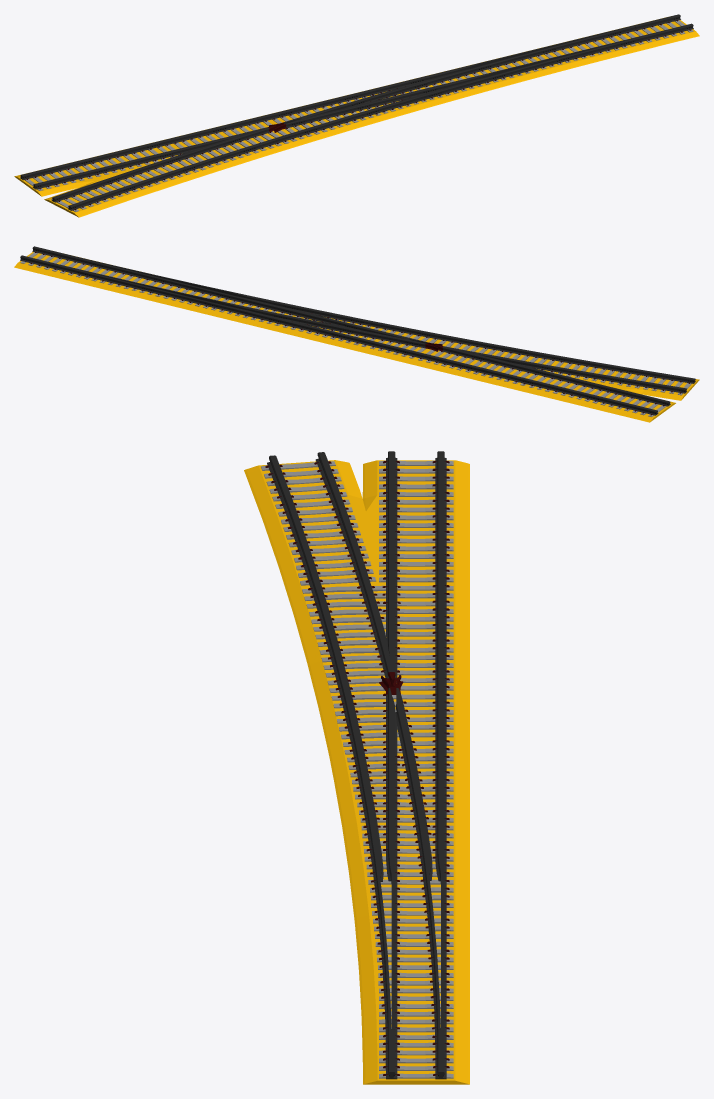
The model's file is Rozjazd50mr300.fbx.
The picture shows the model from 3 angles, top to bottom: view 1: azimuth 30°, elevation 25°; view 2: azimuth 150°, elevation 25°; view 3: azimuth 270°, elevation 25°; orthographic projection. The views are drawn at different scales.
Parts seen in each view (by area): view 1: Rozjazd50mr300; view 2: Rozjazd50mr300; view 3: Rozjazd50mr300.
Boxes of the visible parts, x1,y1,x2,y2 form: Rozjazd50mr300: [14, 14, 699, 217]; Rozjazd50mr300: [14, 246, 699, 422]; Rozjazd50mr300: [244, 451, 469, 1084].
Size of the model in its own units: 5012 by 47.78 by 771.
